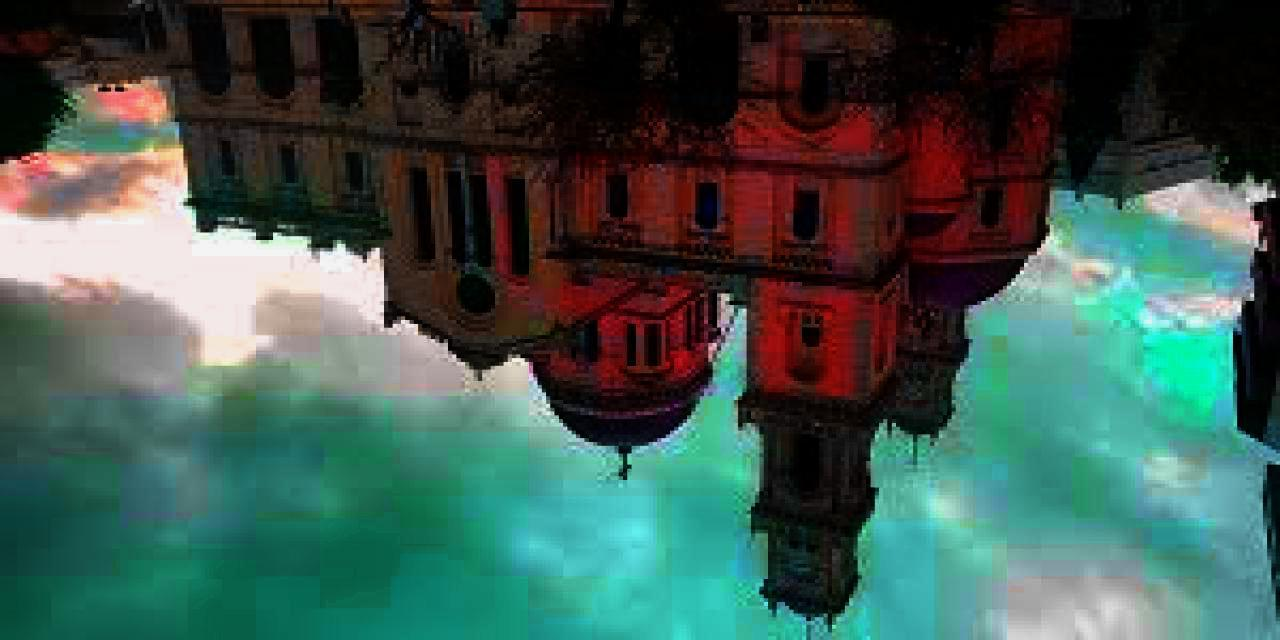Agios Minas: (155, 1, 1070, 632)
